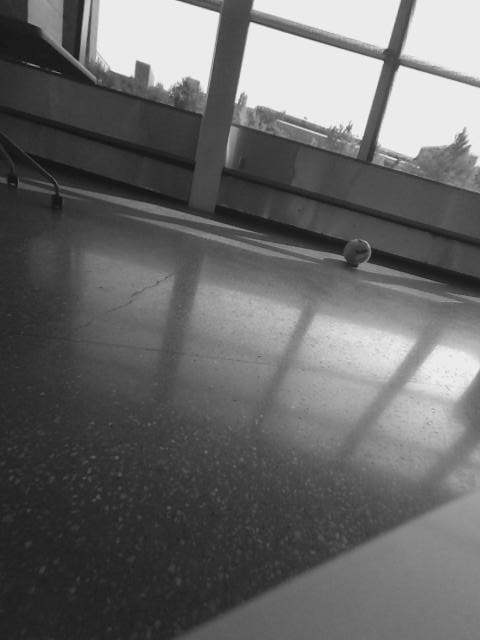ball: (342, 236, 373, 268)
